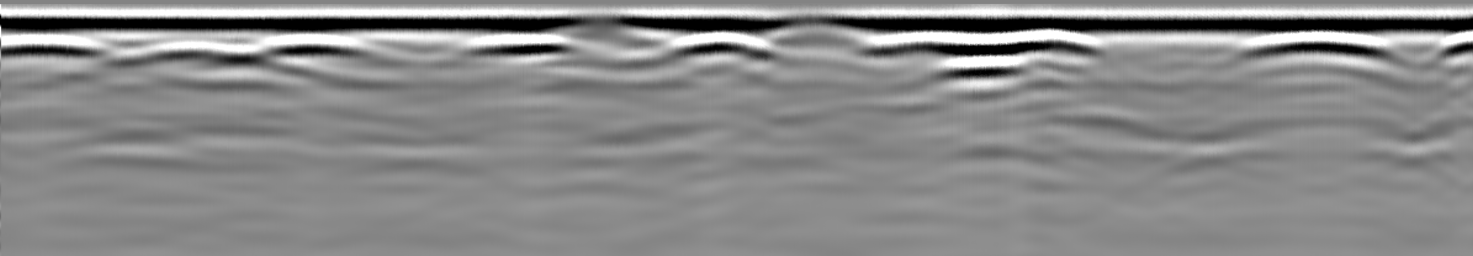pipe: (539, 13, 674, 51), (753, 14, 880, 45)
steel: (865, 29, 1104, 68), (1236, 29, 1403, 68), (239, 30, 387, 67), (454, 31, 572, 67), (663, 33, 781, 63), (1, 33, 116, 61)
